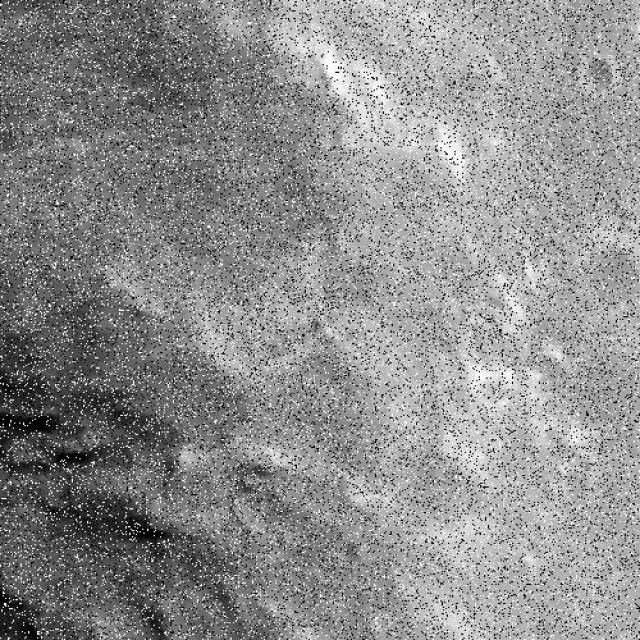crater: (572, 233, 640, 320), (79, 587, 189, 640), (570, 41, 624, 106), (320, 534, 370, 573), (618, 148, 640, 190), (619, 216, 640, 258), (621, 77, 640, 111), (624, 558, 640, 594), (624, 245, 640, 279), (384, 58, 403, 86), (253, 0, 283, 13), (628, 141, 640, 156)
